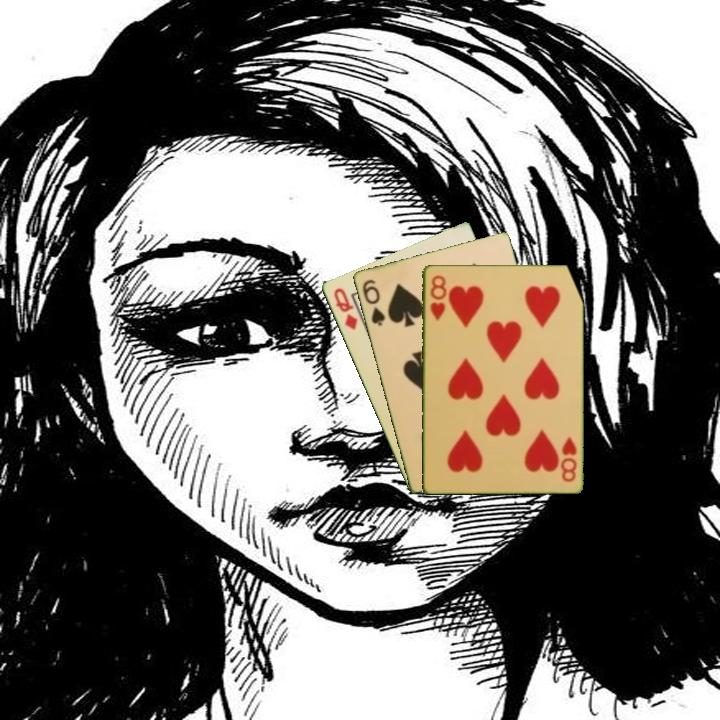6s: (358, 276, 388, 329)
8h: (557, 433, 579, 485), (427, 272, 448, 324)
Qd: (330, 284, 360, 333)
